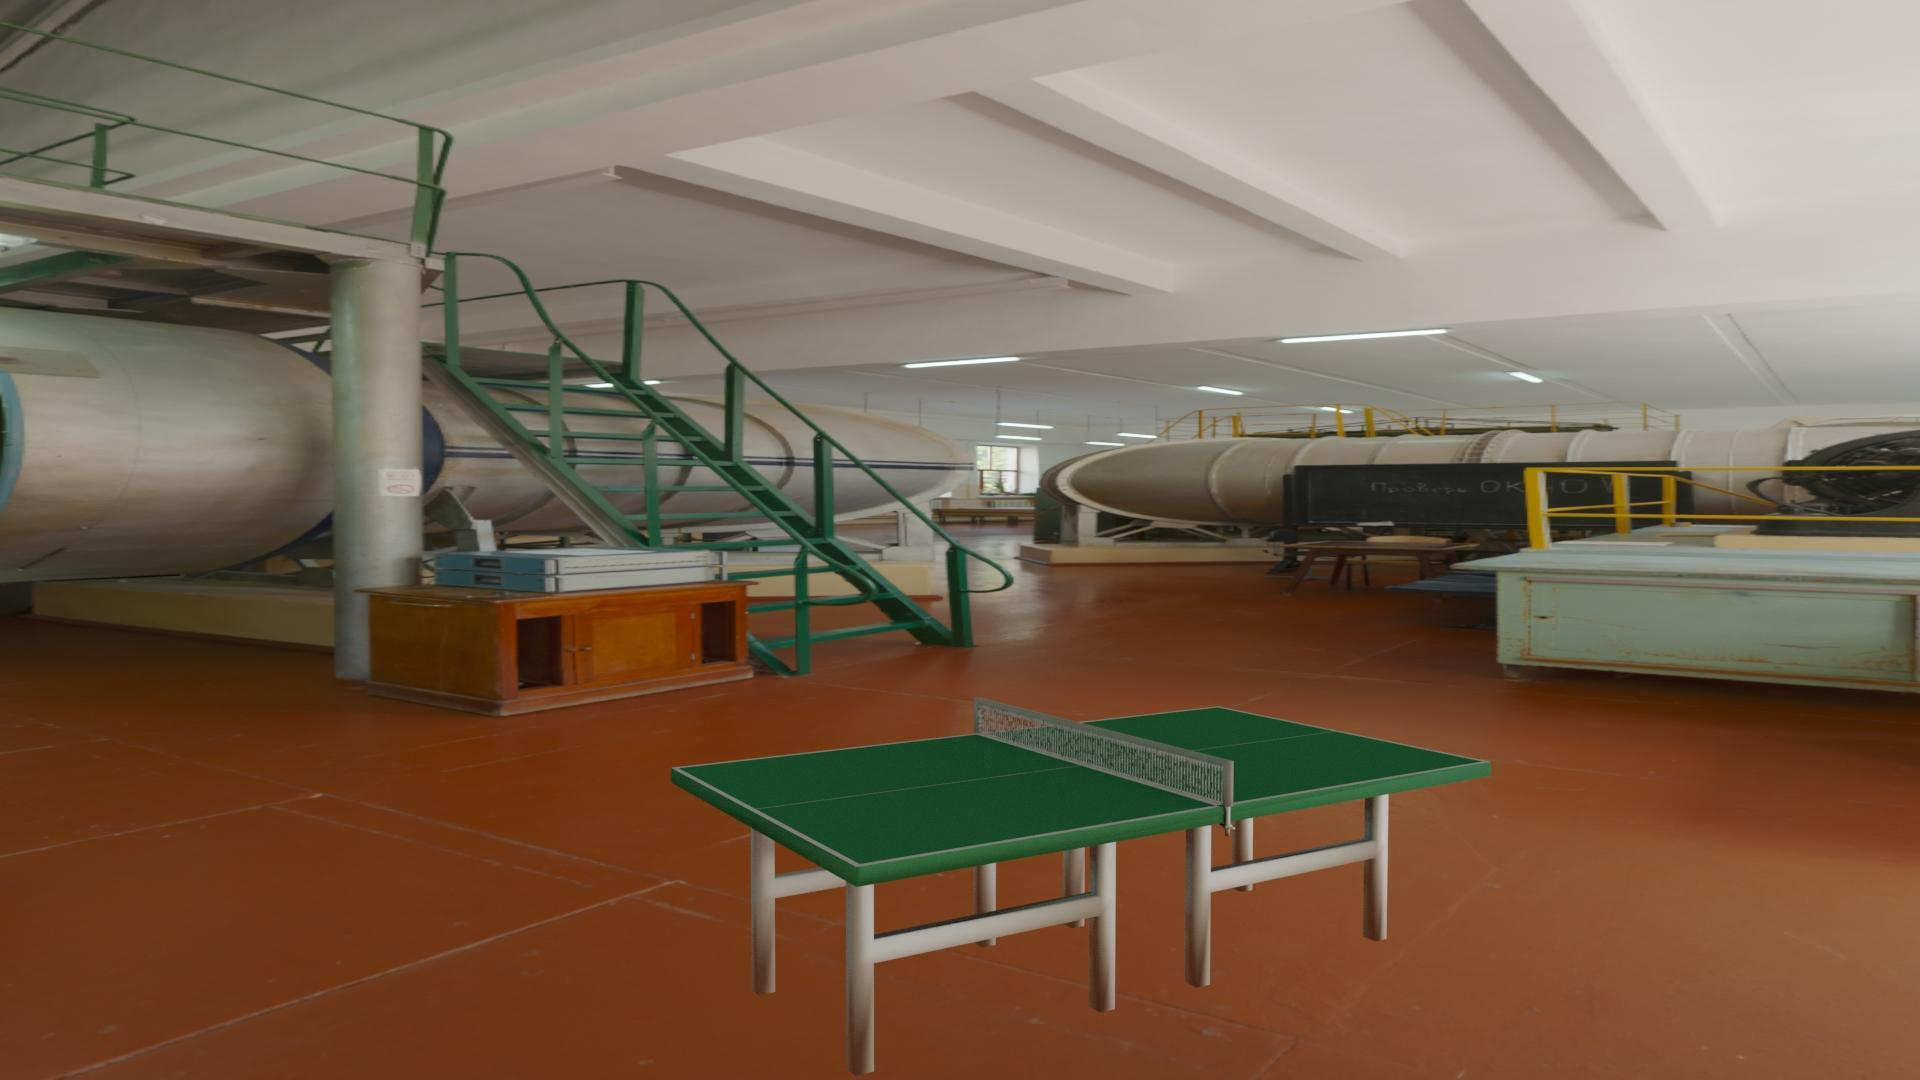table: (678, 707, 1484, 864)
